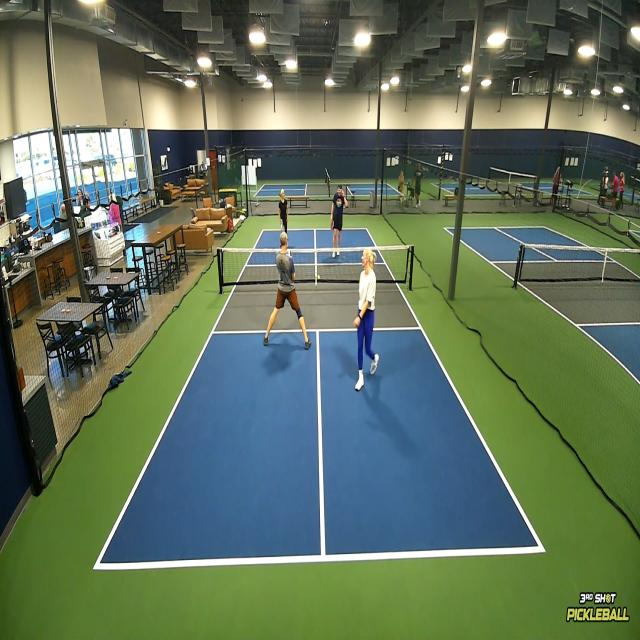Pickleball: (317, 273, 321, 282)
